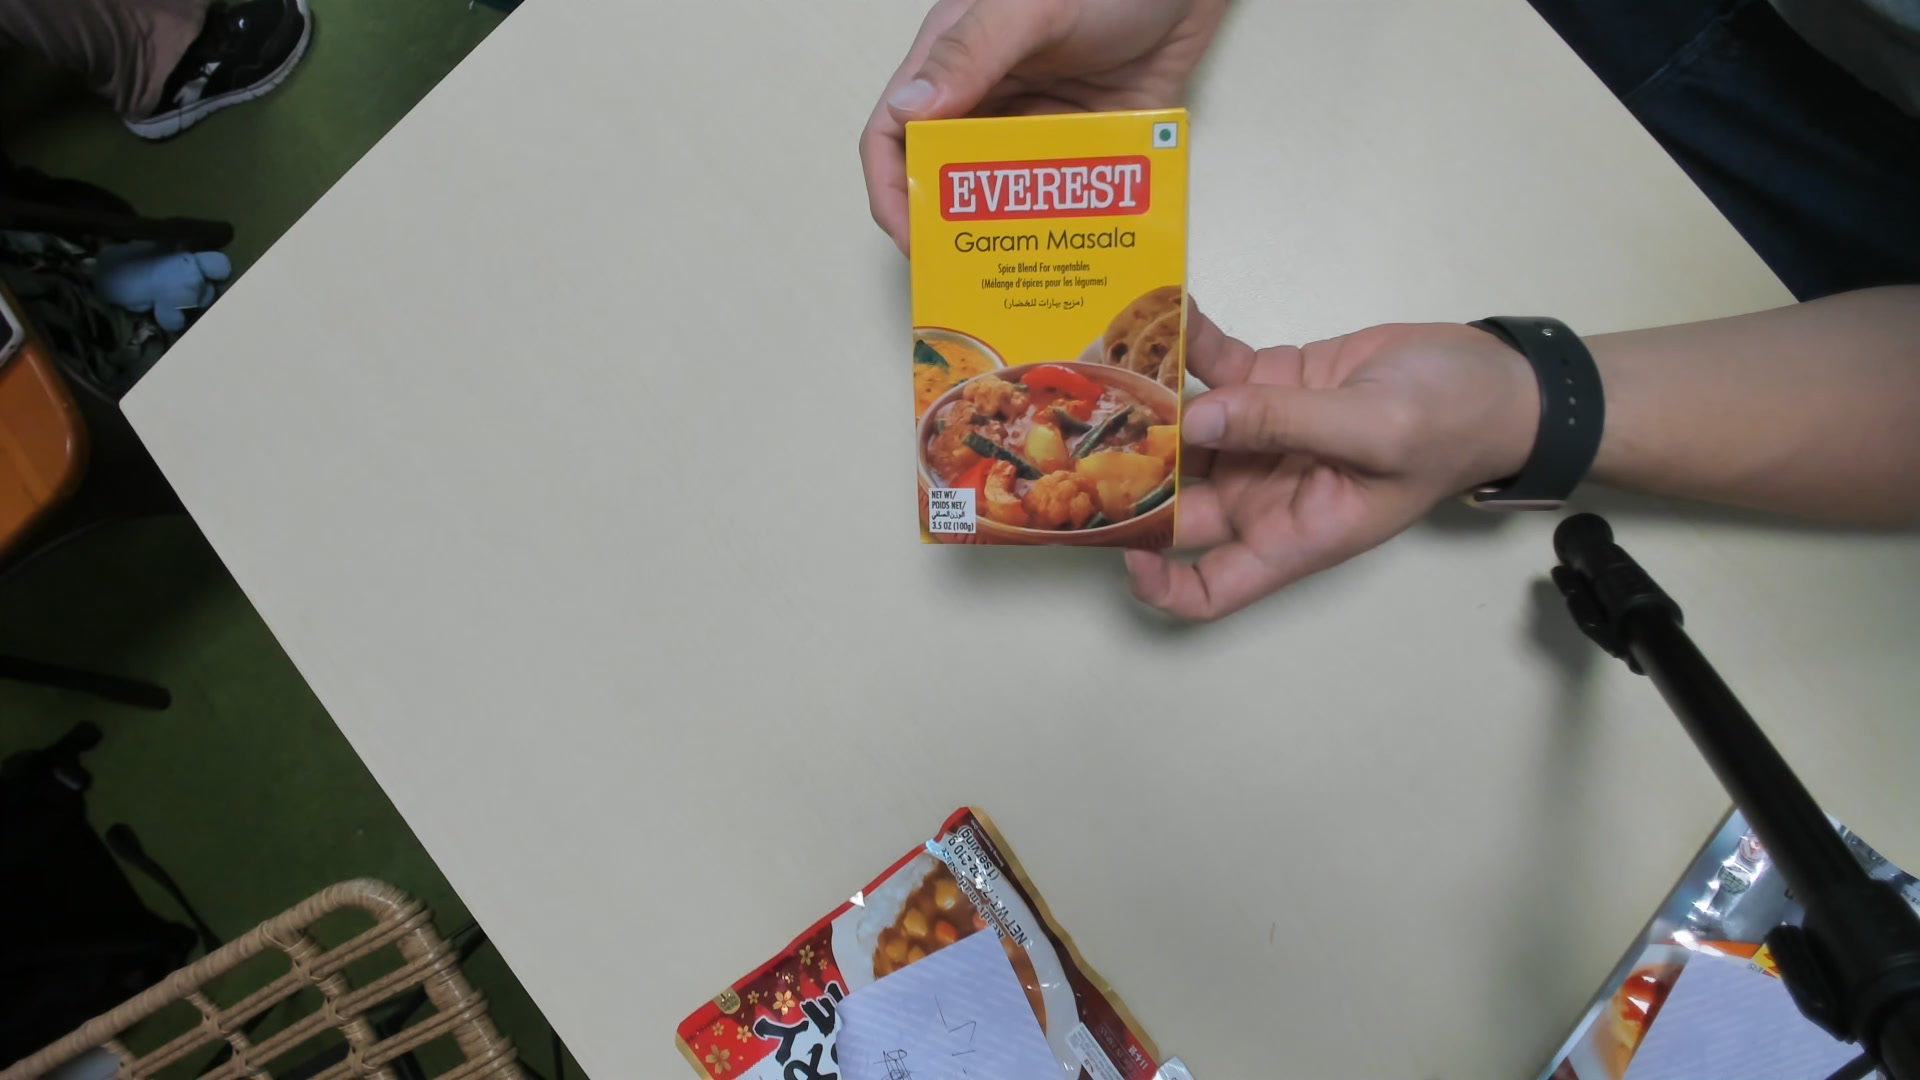CurryPastePowderSauce_100-199g_NonHalal_NonHealthy: (903, 102, 1180, 555)
